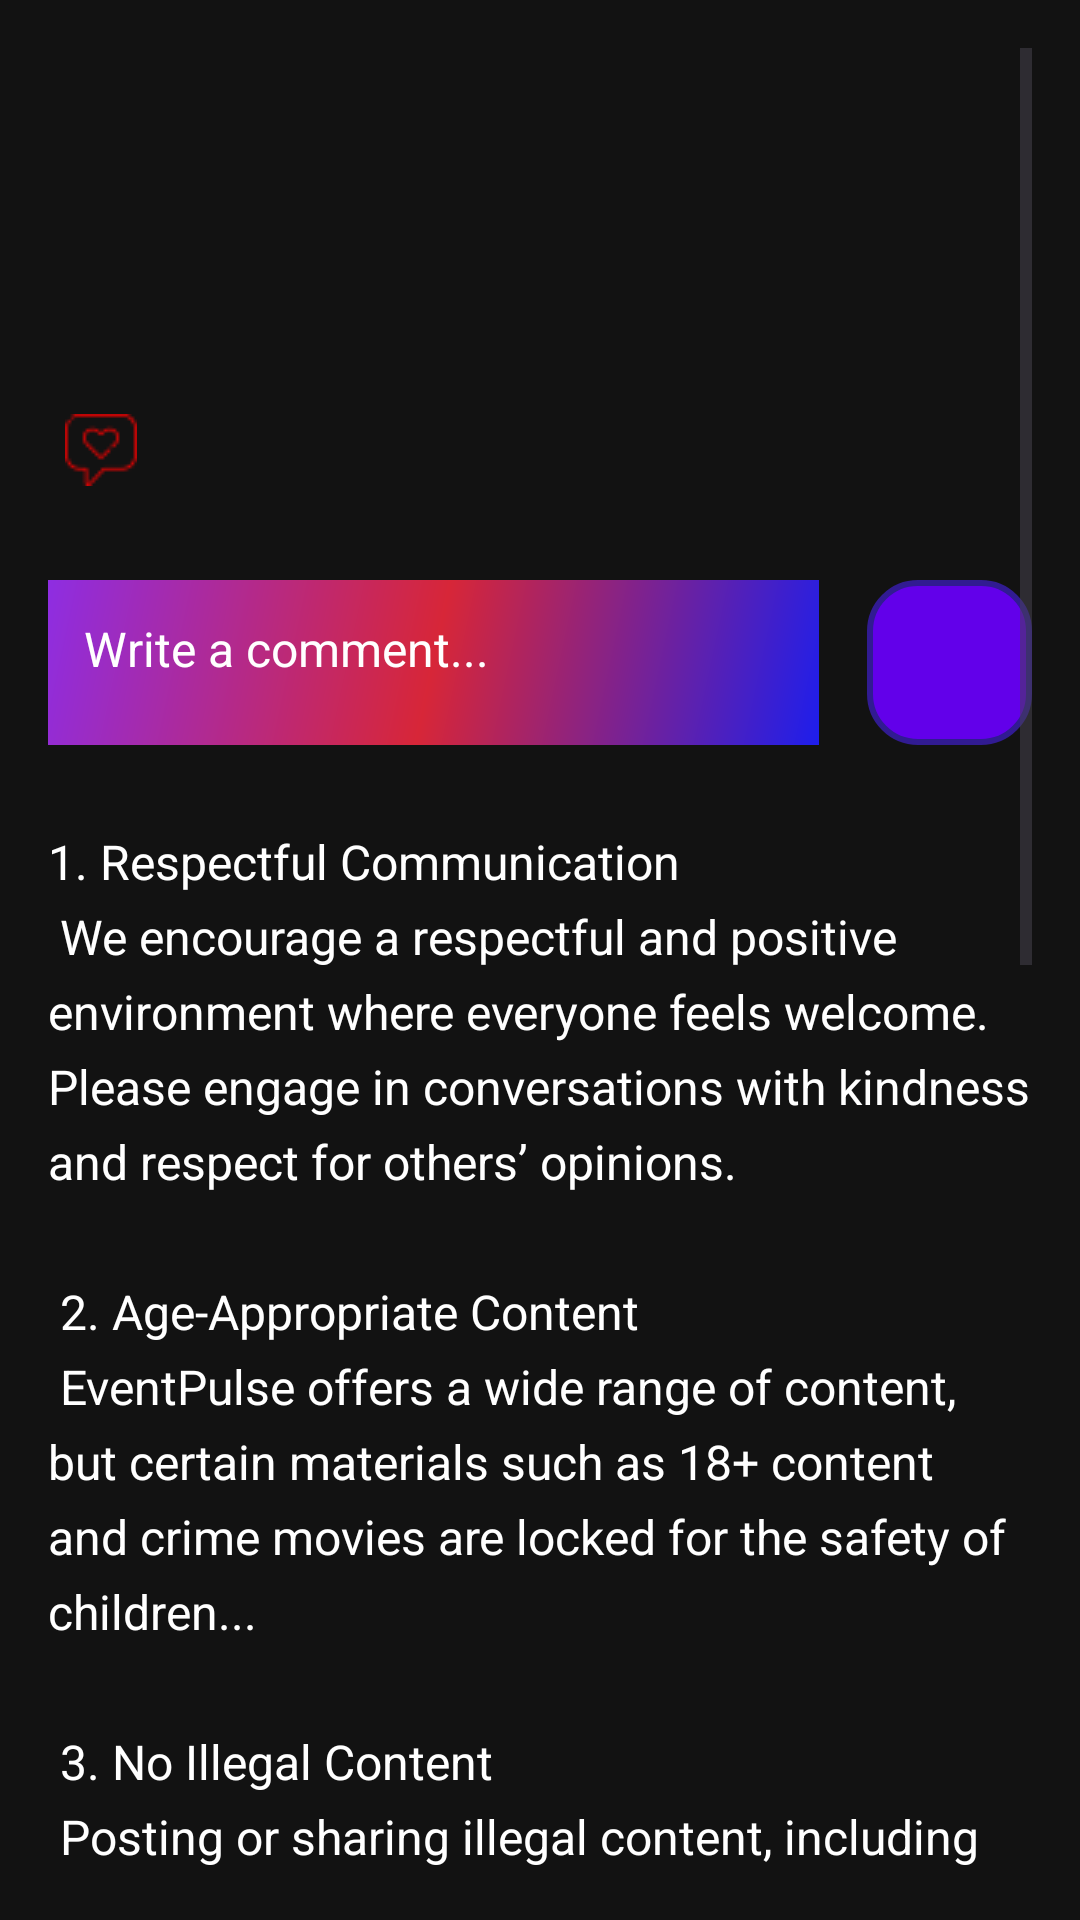

Screen size 1080×1920. Icon name, then its center in pixels as [x,y]:
Like Button: [101,450]
